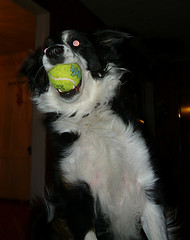tennis ball: (47, 59, 85, 90)
